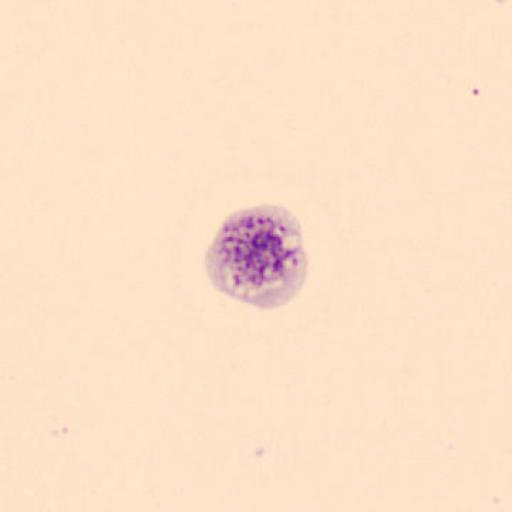Platelet: (200, 204, 314, 311)
WBC: (0, 220, 310, 512)
